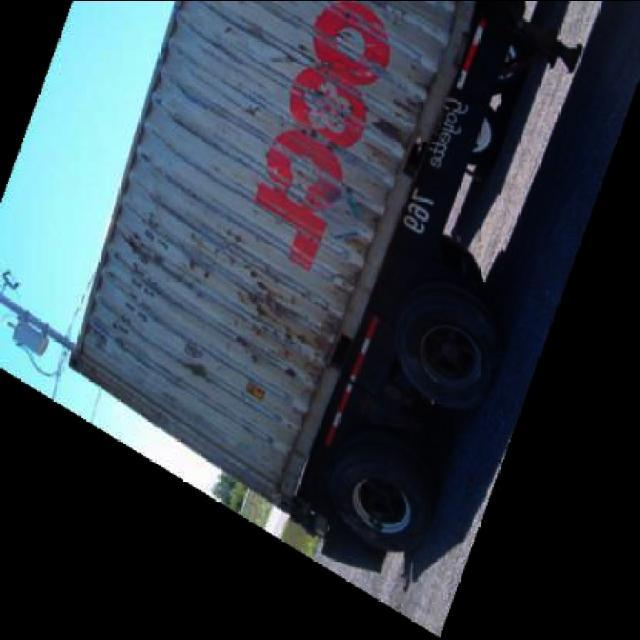rust: (107, 233, 230, 449), (244, 260, 366, 404)
